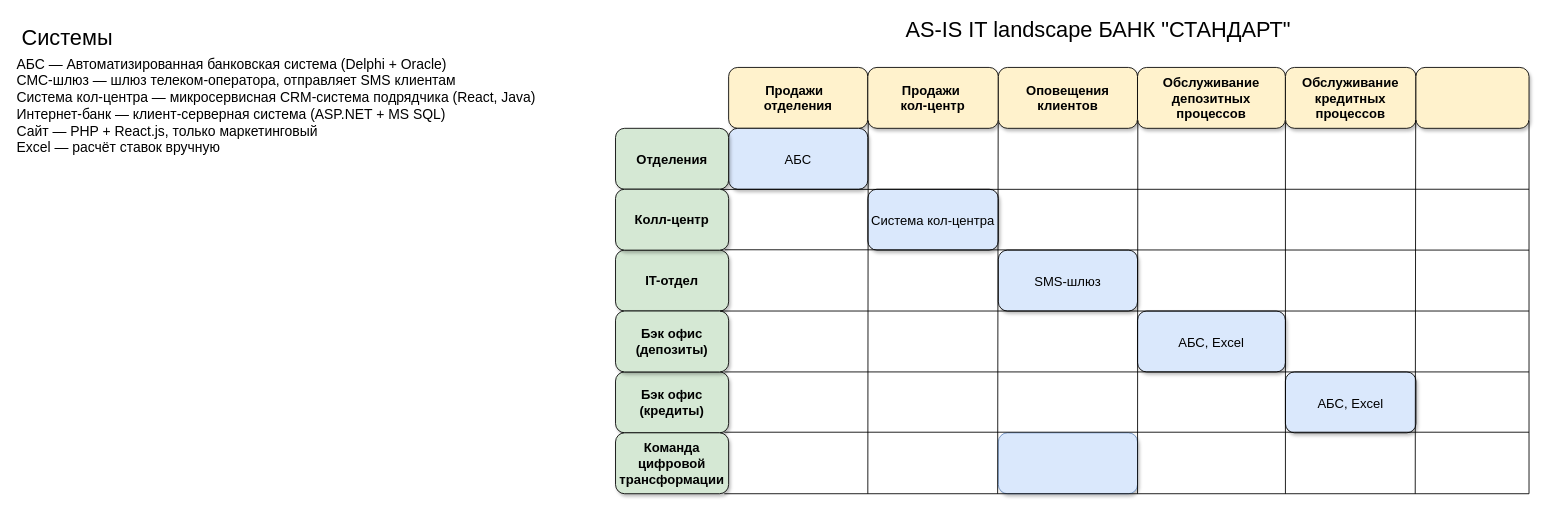
The diagram is 1549 pixels wide and 515 high, and some of its shapes have lost their labels. The shapes that lost their labels are listed below. From the top down, each one's centre as x and y in pixels, then its label:
At [1473,98]: "Управление договорами".
At [1068,464]: "Интернет-банк, Сайт".
